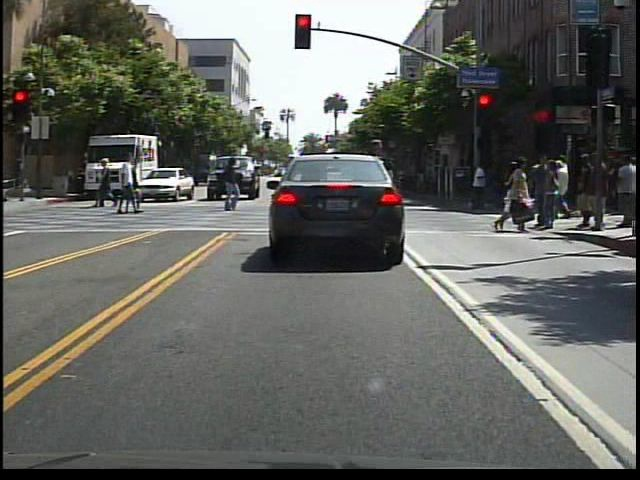person: (350, 118, 392, 247), (494, 155, 537, 237), (114, 154, 147, 223), (548, 152, 574, 224), (216, 156, 247, 215), (97, 156, 119, 213), (470, 156, 487, 217)
